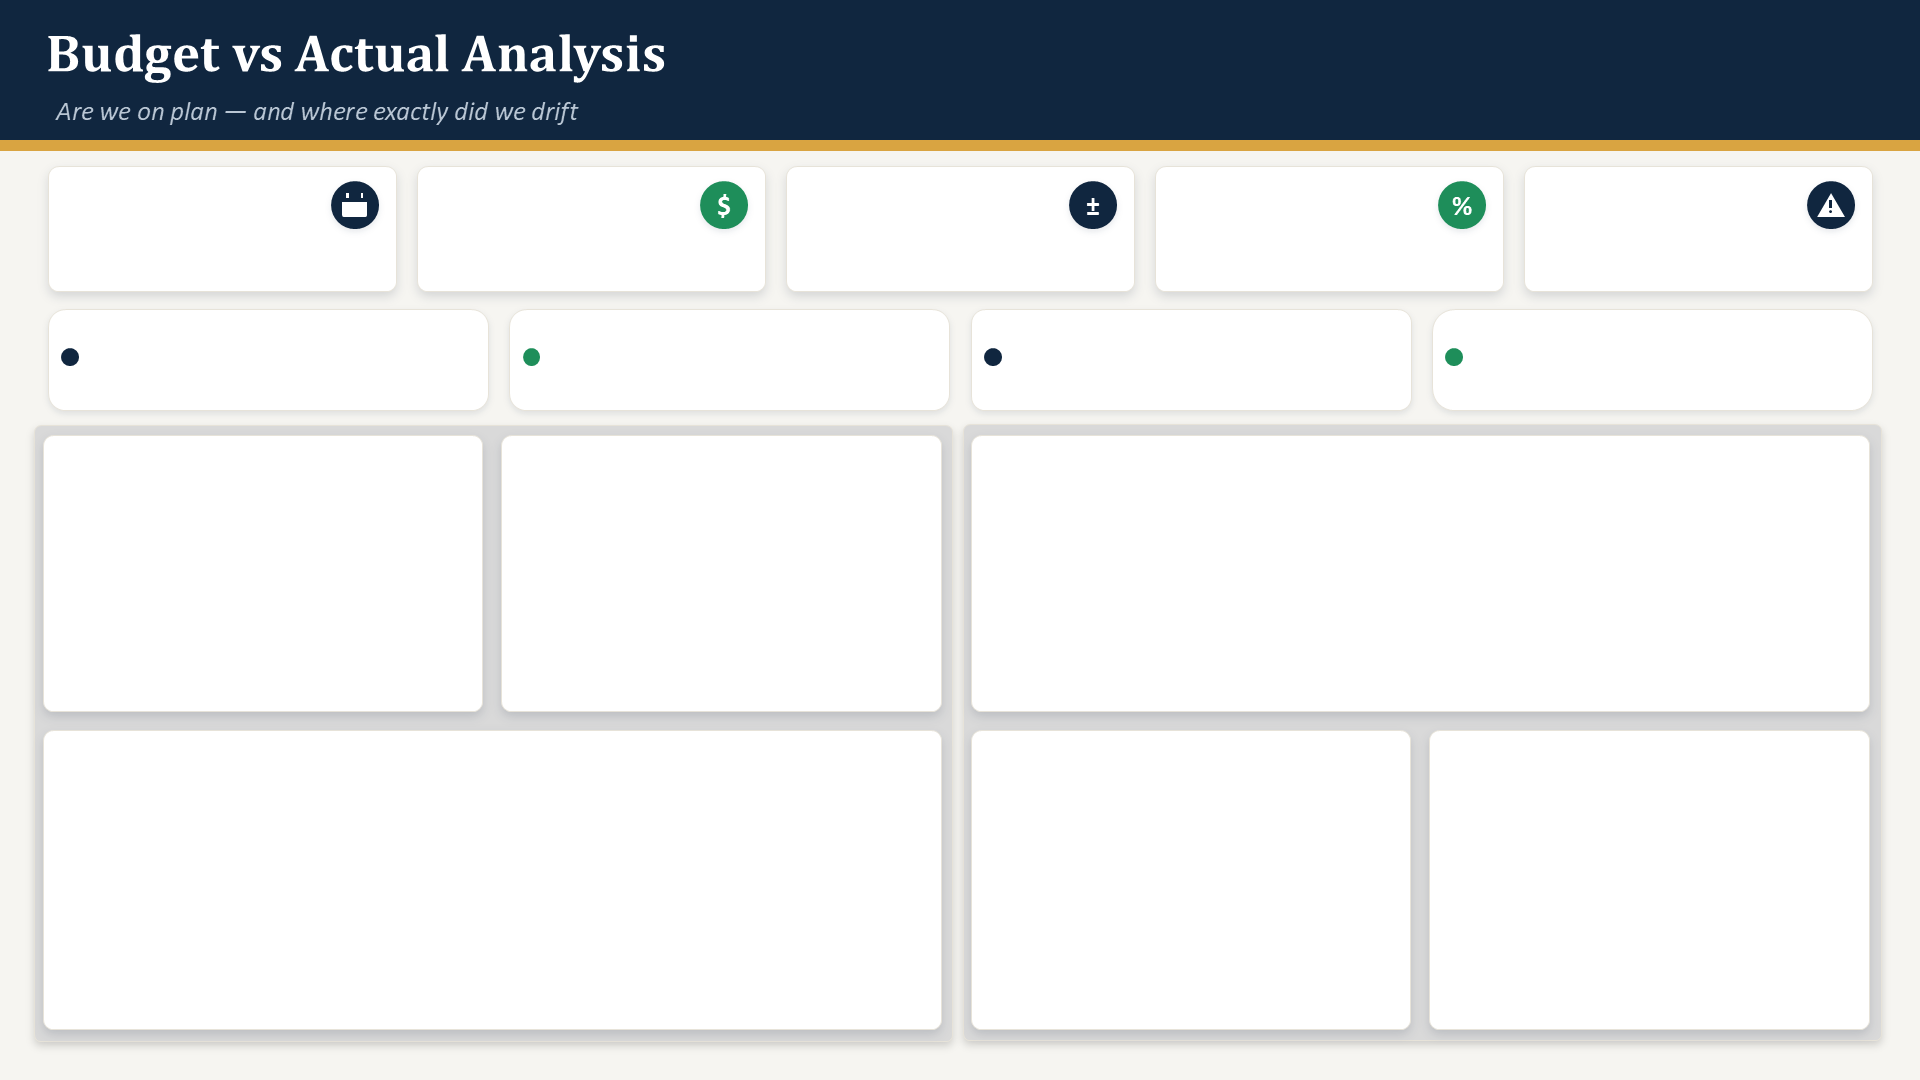

Layout of this report page (visuals, bound fields, positions):
{"tool":"powerbi","page":{"name":"Budget vs Actual","canvas":[1280,720],"ordinal":1},"visuals":[{"type":"cardVisual","fields":{"Data":["Measures_.Total Budget","Measures_.Total Actual","Measures_.Budget Variance ($)","Measures_.Budget Variance (%)","Measures_.Accounts Over Budget"]},"box":[14.5,94.3,1265.5,100.8],"z":0},{"type":"slicer","fields":{"Values":["Dim_Date.MonthShort"]},"box":[52,208.2,255.4,68.3],"z":1000},{"type":"slicer","fields":{"Values":["Fact_Budget.CLASS"]},"box":[370.9,208.2,255.4,68.3],"z":2000},{"type":"slicer","fields":{"Values":["Dim_Account.LEVEL_02"]},"box":[668.5,208.2,255.4,68.3],"z":3000},{"type":"slicer","fields":{"Values":["Dim_RevenueExpenses.REVENUE/EXPENSES"]},"box":[974.3,208.2,255.4,68.3],"z":4000},{"type":"waterfallChart","title":"Budget-to-Actual Bridge","fields":{"Category":["Dim_Account.LEVEL_01"],"Y":["Measures_.Budget Variance ($)"]},"box":[647.4,292.8,598.6,178.9],"z":5000},{"type":"lineChart","fields":{"Category":["Dim_Date.MonthShort"],"Y":["Measures_.Total Budget","Measures_.Total Actual"]},"box":[27.7,488,598.6,196.8],"z":6000},{"type":"clusteredBarChart","title":"Variance by Account","fields":{"Category":["Dim_Account.ACCOUNT_NAME"],"Y":["Measures_.Budget Variance ($)"]},"box":[647.4,488,299.3,196.8],"z":7000},{"type":"clusteredBarChart","title":"Variance by Department","fields":{"Category":["Dim_Class.Short_CLASS"],"Y":["Measures_.Budget Variance ($)"]},"box":[953.2,488,299.3,196.8],"z":8000},{"type":"donutChart","title":"Budget Allocation by Department","fields":{"Category":["Dim_Class.Short_CLASS"],"Y":["Measures_.Budget Variance (%)"]},"box":[26,286.3,300.9,201.7],"z":9000},{"type":"donutChart","title":"Top 3 Over-Budget Accounts","fields":{"Category":["Dim_Account.ACCOUNT_NAME"],"Y":["Measures_.Budget Variance ($)"]},"box":[331.8,291.2,299.3,201.7],"z":10000},{"type":"pageNavigator","box":[845.8,21.1,400,50],"z":10001}]}

Visuals, with their boxes in screenshot pixels (x1, y1, x2, y2), scaled from the page's 1280x720 canvas onto the 1920x1080 screenshot:
cardVisual - Measures_.Total Budget x Measures_.Total Actual: x1=22, y1=141, x2=1919, y2=293
slicer - Dim_Date.MonthShort: x1=78, y1=312, x2=461, y2=415
slicer - Fact_Budget.CLASS: x1=556, y1=312, x2=939, y2=415
slicer - Dim_Account.LEVEL_02: x1=1003, y1=312, x2=1386, y2=415
slicer - Dim_RevenueExpenses.REVENUE/EXPENSES: x1=1461, y1=312, x2=1845, y2=415
"Budget-to-Actual Bridge" waterfallChart: x1=971, y1=439, x2=1869, y2=708
lineChart - Dim_Date.MonthShort x Measures_.Total Budget: x1=42, y1=732, x2=939, y2=1027
"Variance by Account" clusteredBarChart: x1=971, y1=732, x2=1420, y2=1027
"Variance by Department" clusteredBarChart: x1=1430, y1=732, x2=1879, y2=1027
"Budget Allocation by Department" donutChart: x1=39, y1=429, x2=490, y2=732
"Top 3 Over-Budget Accounts" donutChart: x1=498, y1=437, x2=947, y2=739
pageNavigator: x1=1269, y1=32, x2=1869, y2=107
